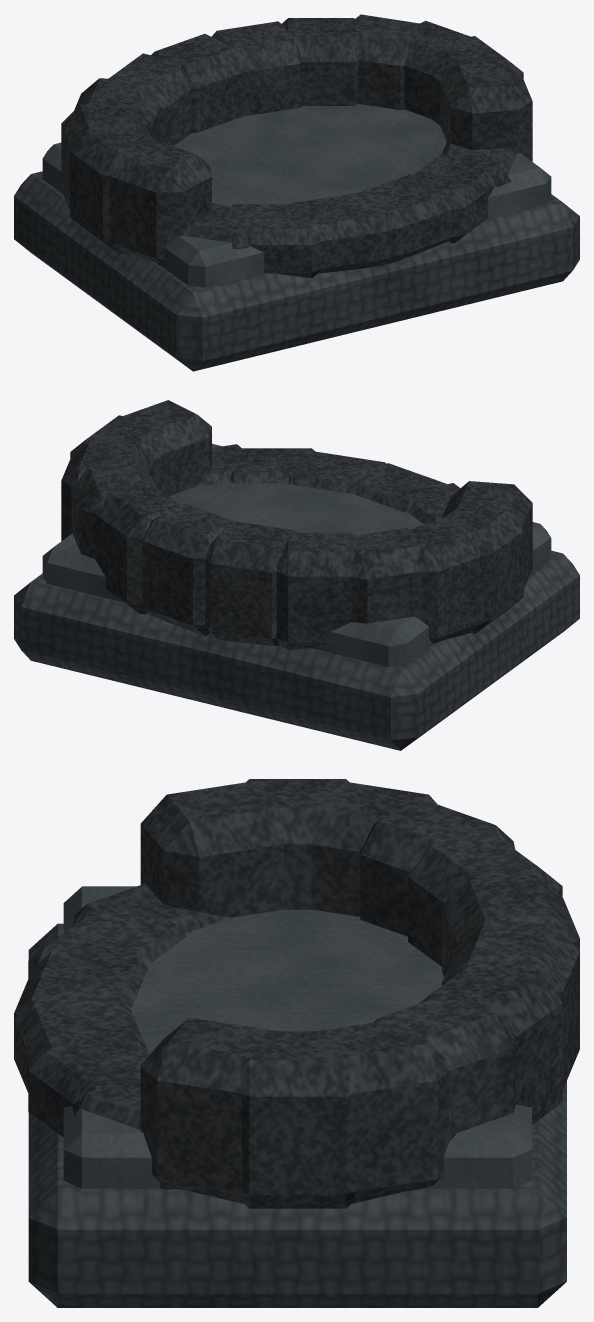
Rendered from cat_bed.glb.
3 renders of one model, top to bottom at view 1: azimuth 30°, elevation 25°; view 2: azimuth 150°, elevation 25°; view 3: azimuth 270°, elevation 25°, orthographic. The views are drawn at different scales.
Parts seen in each view (by area): view 1: fixed_leather, fixed_hull, fixed_fabric; view 2: fixed_leather, fixed_hull, fixed_fabric; view 3: fixed_leather, fixed_hull, fixed_fabric.
Part boxes in pixels (x1,y1,x2,y2): fixed_leather: (61,14,532,278); fixed_hull: (14,171,579,371); fixed_fabric: (42,104,551,287); fixed_leather: (61,400,532,650); fixed_hull: (14,550,579,750); fixed_fabric: (42,443,551,666); fixed_leather: (14,779,579,1208); fixed_hull: (28,923,566,1307); fixed_fabric: (63,886,531,1188).
Size of the model in its own units: 0.615 by 0.24 by 0.4835.
Materials: 3 (3 with a texture image).
